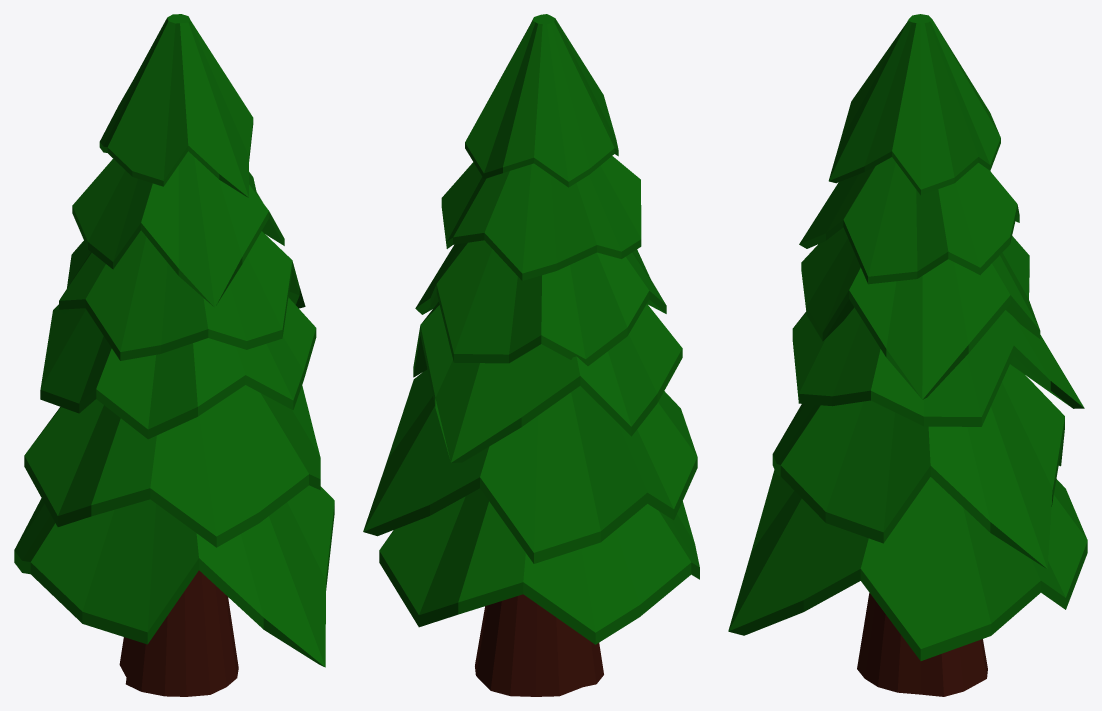
File: wood.obj
The picture shows the model from 3 angles, left to right: view 1: azimuth 30°, elevation 25°; view 2: azimuth 150°, elevation 25°; view 3: azimuth 270°, elevation 25°; orthographic projection.
Visible parts, largest first — view 1: leaf.001_円柱.002, leaf.002_円柱.003, leaf.003_円柱.004, leaf.004_円柱.005, leaf.005_円柱.006, leaf_円柱.001, Wood_円柱; view 2: leaf.002_円柱.003, leaf.001_円柱.002, leaf.004_円柱.005, leaf.003_円柱.004, leaf.005_円柱.006, leaf_円柱.001, Wood_円柱; view 3: leaf.001_円柱.002, leaf.002_円柱.003, leaf.004_円柱.005, leaf_円柱.001, leaf.005_円柱.006, leaf.003_円柱.004, Wood_円柱.
Part boxes in pixels (x1,y1,x2,y2): leaf.001_円柱.002: (14,485,334,667); leaf.002_円柱.003: (24,385,320,547); leaf.003_円柱.004: (40,297,316,439); leaf.004_円柱.005: (59,230,305,360); leaf.005_円柱.006: (72,151,284,307); leaf_円柱.001: (99,14,253,197); Wood_円柱: (119,570,238,696); leaf.002_円柱.003: (363,369,697,563); leaf.001_円柱.002: (379,488,699,644); leaf.004_円柱.005: (415,240,666,365); leaf.003_円柱.004: (413,302,682,462); leaf.005_円柱.006: (441,156,641,280); leaf_円柱.001: (465,14,618,187); Wood_円柱: (475,594,603,696); leaf.001_円柱.002: (728,470,1087,660); leaf.002_円柱.003: (772,364,1064,568); leaf.004_円柱.005: (801,229,1040,399); leaf_円柱.001: (828,14,1000,195); leaf.005_円柱.006: (799,157,1019,284); leaf.003_円柱.004: (792,307,1084,426); Wood_円柱: (857,593,987,696).
Bounding box in the file's own units: 2.81 × 5.93 × 2.97.
